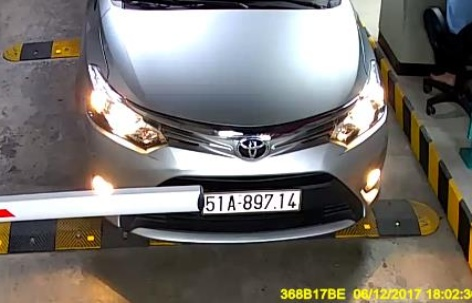plate: (200, 186, 305, 220)
